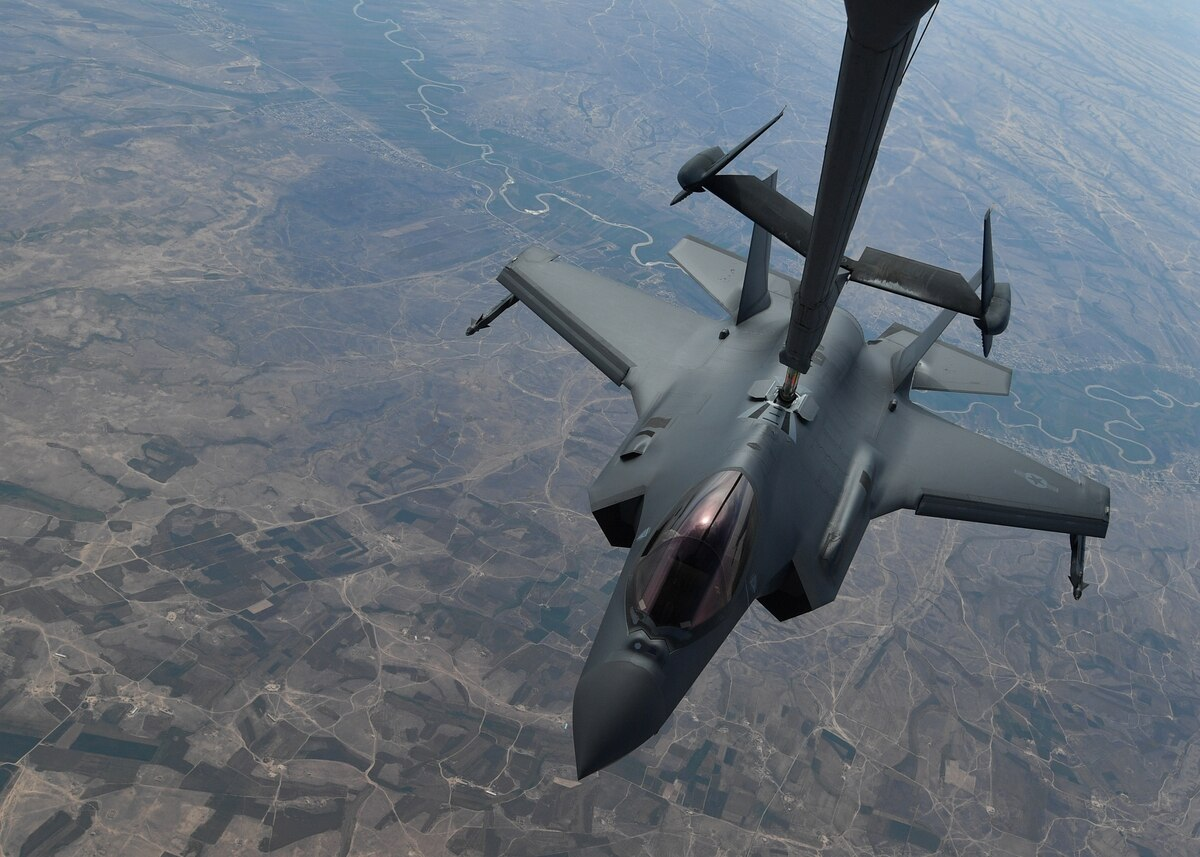F-35 Lightning: (439, 107, 1136, 772)
